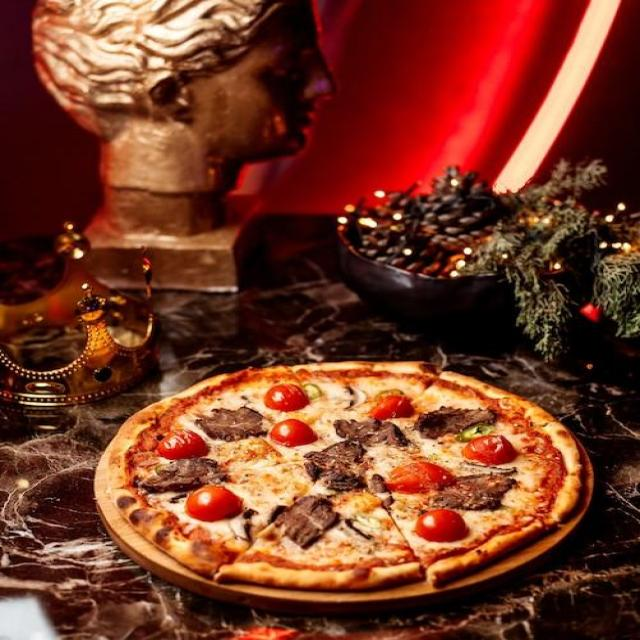pizza: (108, 360, 592, 588)
